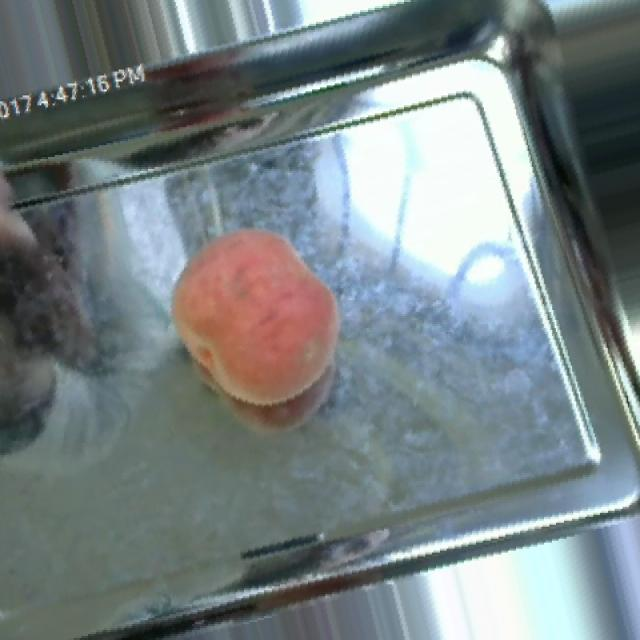Fruit: (149, 207, 360, 431)
